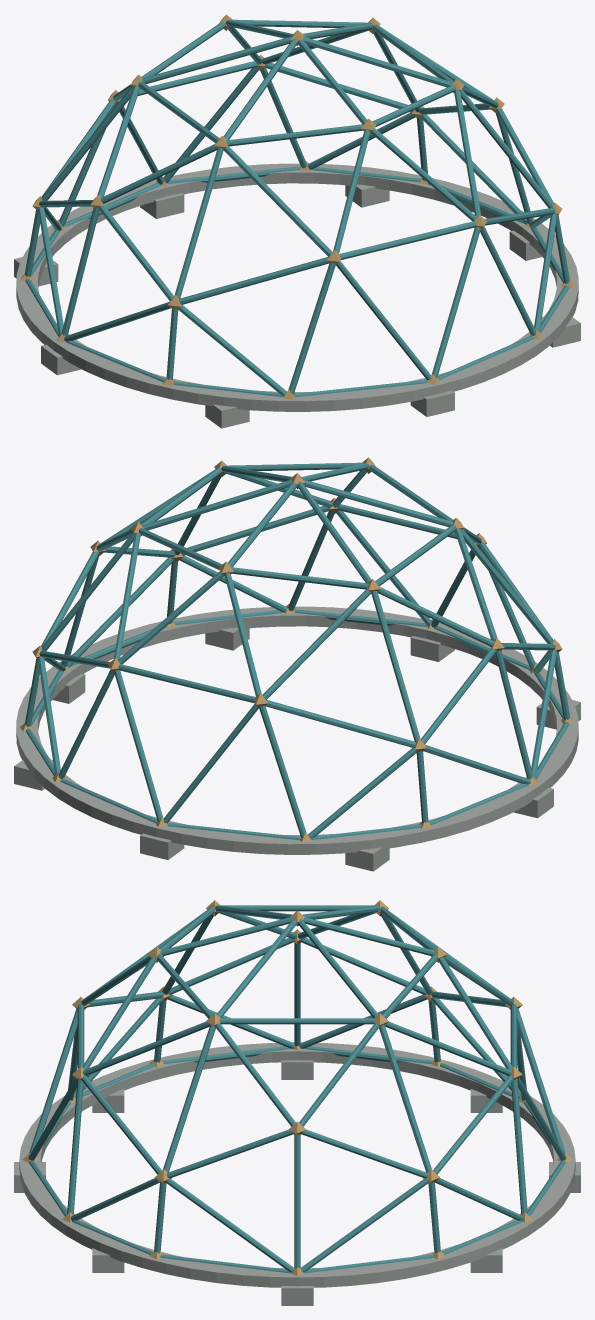
The picture shows the model from 3 angles, top to bottom: view 1: azimuth 30°, elevation 25°; view 2: azimuth 150°, elevation 25°; view 3: azimuth 270°, elevation 25°; orthographic projection.
Visible parts, largest first — view 1: WholeContinuousLowerAnnularSill, WholeTriangularDomeStrut_045, WholeTriangularDomeStrut_017, WholeTriangularDomeStrut_018, WholeTriangularDomeStrut_006, WholeTriangularDomeStrut_023, WholeTriangularDomeStrut_022, WholeTriangularDomeStrut_030, WholeTriangularDomeStrut_005, WholeTriangularDomeStrut_037, WholeTriangularDomeStrut_044, WholeTriangularDomeStrut_001 (+39 smaller); view 2: WholeContinuousLowerAnnularSill, WholeTriangularDomeStrut_062, WholeTriangularDomeStrut_015, WholeTriangularDomeStrut_019, WholeTriangularDomeStrut_057, WholeTriangularDomeStrut_030, WholeTriangularDomeStrut_029, WholeTriangularDomeStrut_023, WholeTriangularDomeStrut_056, WholeTriangularDomeStrut_040, WholeTriangularDomeStrut_061, WholeTriangularDomeStrut_052 (+39 smaller); view 3: WholeContinuousLowerAnnularSill, WholeTriangularDomeStrut_037, WholeTriangularDomeStrut_040, WholeTriangularDomeStrut_034, WholeTriangularDomeStrut_050, WholeTriangularDomeStrut_066, WholeTriangularDomeStrut_005, WholeTriangularDomeStrut_056, WholeTriangularDomeStrut_007, WholeTriangularDomeStrut_058, WholeTriangularDomeStrut_043, WholeTriangularDomeStrut_010 (+41 smaller).
Boxes of the visible parts, x1,y1,x2,y2 form: WholeContinuousLowerAnnularSill: (16,163,578,411); WholeTriangularDomeStrut_045: (179,256,329,304); WholeTriangularDomeStrut_017: (142,36,291,84); WholeTriangularDomeStrut_018: (303,36,452,87); WholeTriangularDomeStrut_006: (431,227,480,378); WholeTriangularDomeStrut_023: (174,148,223,298); WholeTriangularDomeStrut_022: (223,146,332,256); WholeTriangularDomeStrut_030: (41,86,133,200); WholeTriangularDomeStrut_005: (336,261,431,380); WholeTriangularDomeStrut_037: (460,89,553,208); WholeTriangularDomeStrut_044: (339,221,476,260); WholeTriangularDomeStrut_001: (288,262,335,394); WholeContinuousLowerAnnularSill: (16,606,578,854); WholeTriangularDomeStrut_062: (265,699,415,747); WholeTriangularDomeStrut_015: (303,479,452,527); WholeTriangularDomeStrut_019: (142,479,291,530); WholeTriangularDomeStrut_057: (114,670,163,821); WholeTriangularDomeStrut_030: (371,591,420,741); WholeTriangularDomeStrut_029: (262,589,371,699); WholeTriangularDomeStrut_023: (461,529,553,643); WholeTriangularDomeStrut_056: (163,704,258,823); WholeTriangularDomeStrut_040: (41,532,134,651); WholeTriangularDomeStrut_061: (118,664,255,703); WholeTriangularDomeStrut_052: (259,705,306,837); WholeContinuousLowerAnnularSill: (19,1042,575,1287); WholeTriangularDomeStrut_037: (163,1024,215,1172); WholeTriangularDomeStrut_040: (379,1024,431,1172); WholeTriangularDomeStrut_034: (219,1018,375,1024); WholeTriangularDomeStrut_050: (165,1178,294,1272); WholeTriangularDomeStrut_066: (300,1178,429,1272); WholeTriangularDomeStrut_005: (29,1008,77,1153); WholeTriangularDomeStrut_056: (517,1008,565,1153); WholeTriangularDomeStrut_007: (67,1078,83,1214); WholeTriangularDomeStrut_058: (511,1078,527,1214); WholeTriangularDomeStrut_043: (294,1134,300,1268); WholeTriangularDomeStrut_010: (160,917,291,956).
Bounding box in the file's own units: 5.3 × 2.85 × 5.3.
